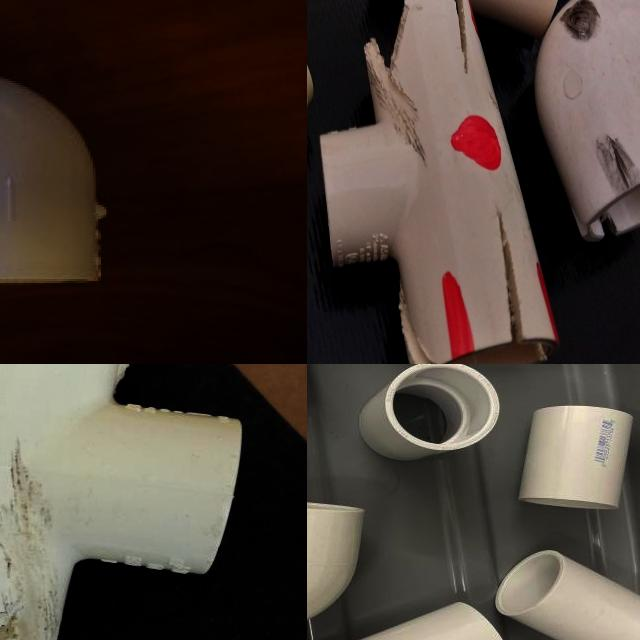Defective: (0, 461, 48, 640), (417, 276, 439, 362), (327, 112, 358, 150), (458, 291, 473, 364)
L Joint: (0, 78, 107, 287), (307, 0, 366, 187), (307, 504, 367, 623)
T Joint: (307, 193, 406, 364)
